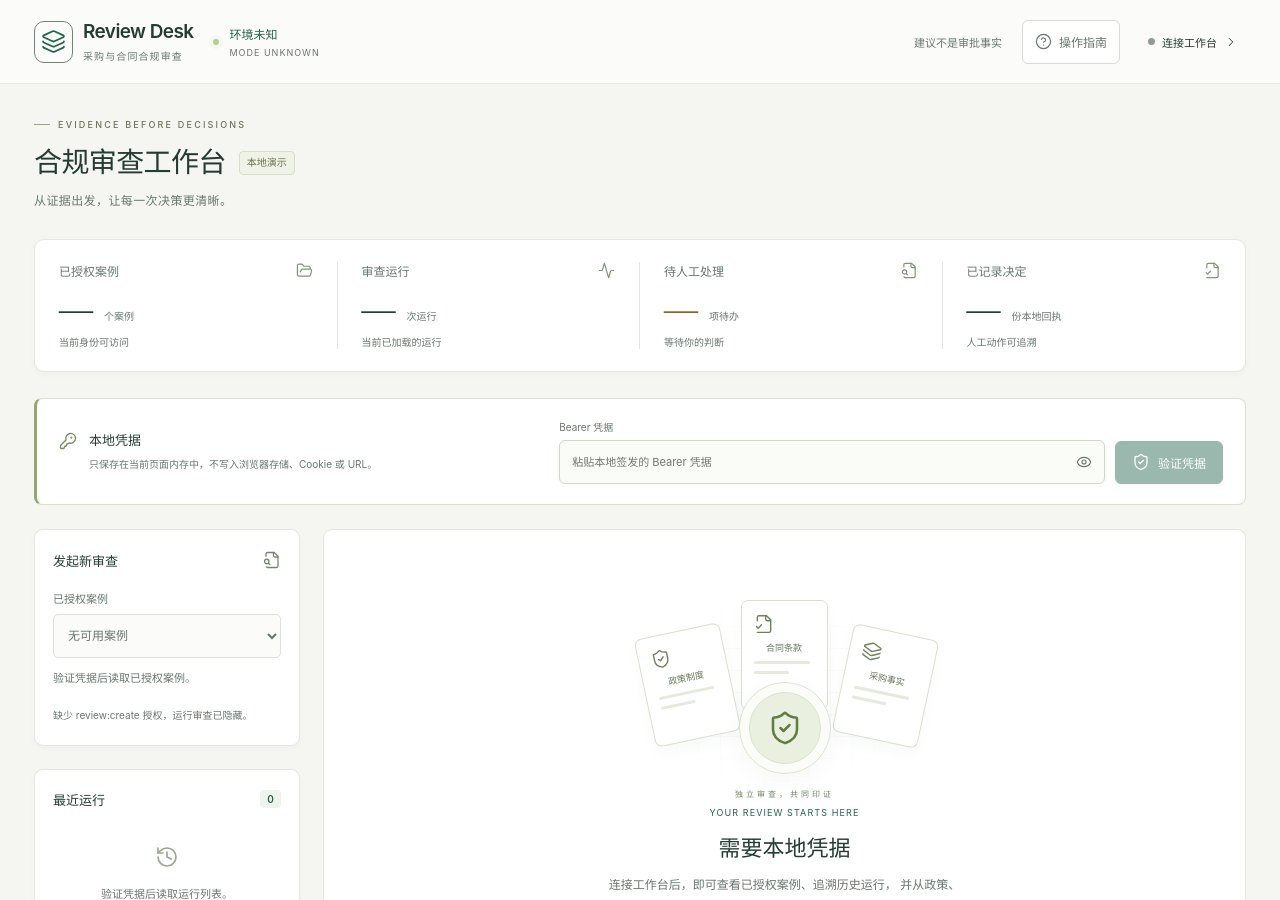
FIX-07 S-02 · ownership, binding and replay are unchanged › binds a create response to the Case frozen before the request was sent
In the password field labelled "Bearer 凭据": [812, 462] box [560,441,1064,483], type "fix01c-local-credential"
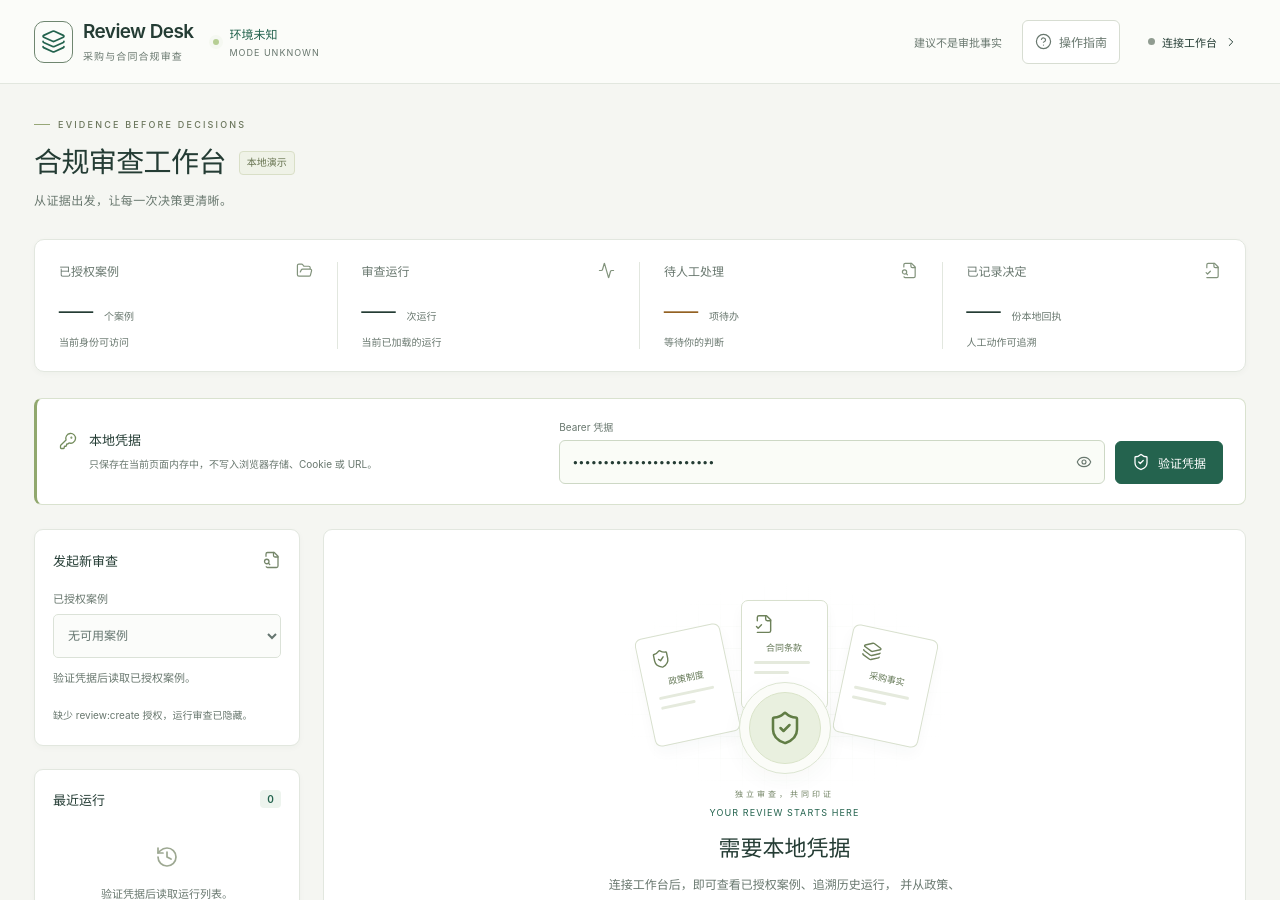
Click the button "验证凭据": [1169, 462] box [1115,441,1223,484]
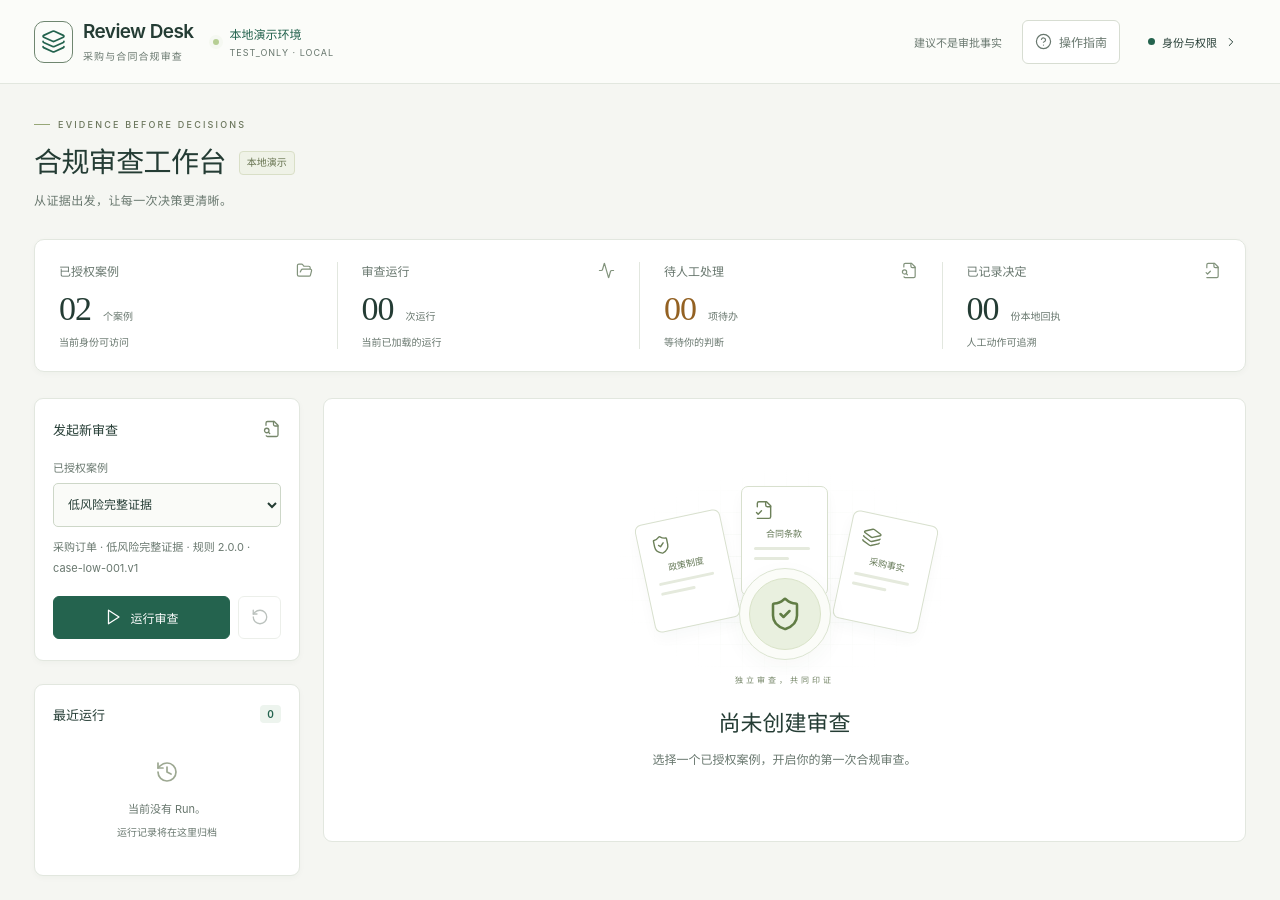
Result: the dropdown labelled "已授权案例" shows "低风险完整证据" at [53,483,281,527]
Click the button "运行审查": [142, 617] box [53,596,230,639]
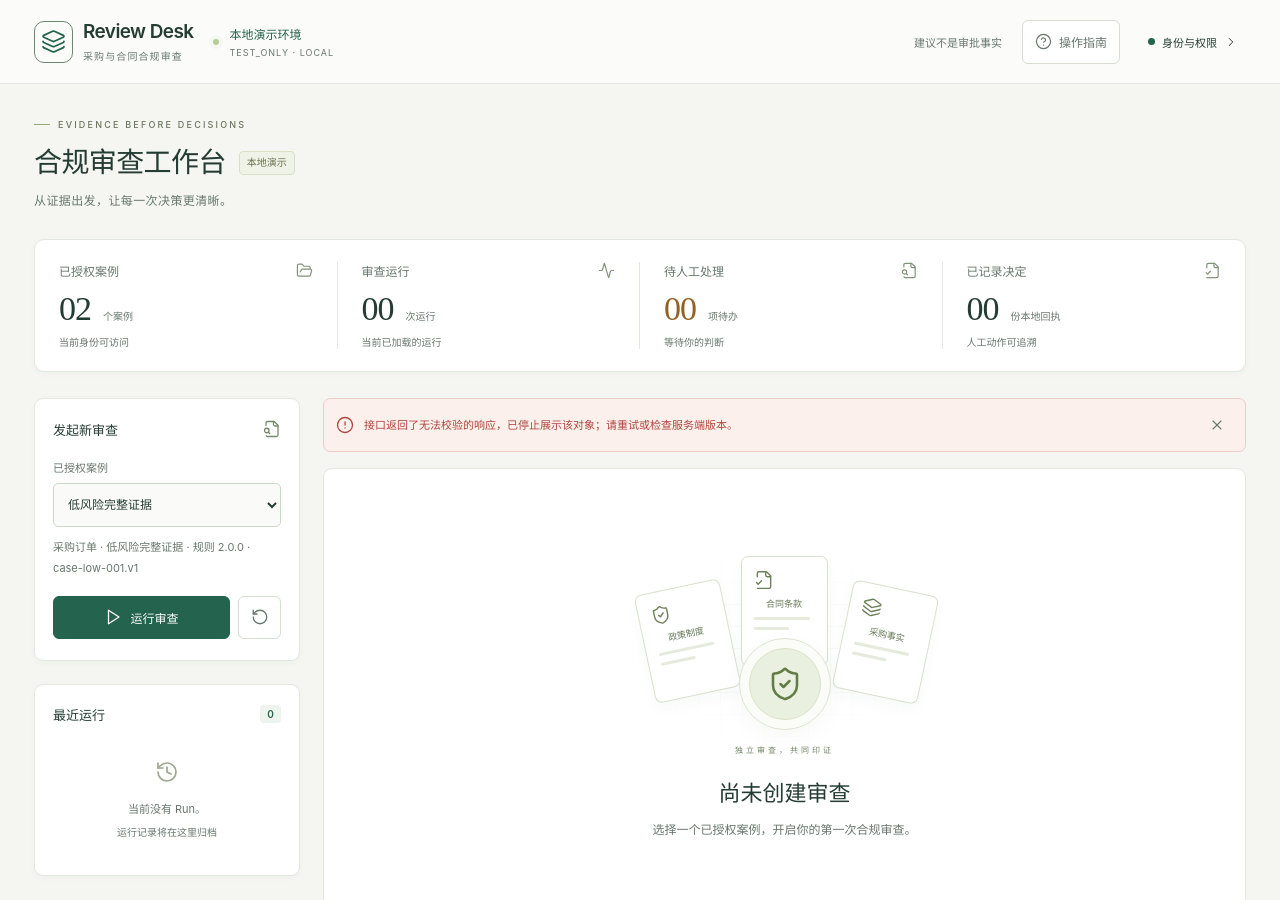
Result: the button named "重放最近创建请求" is enabled at [238,596,281,639]
